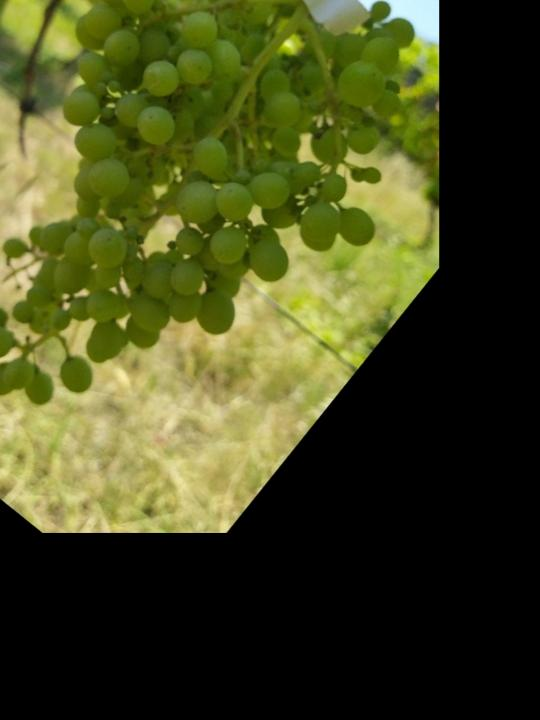grape: (0, 0, 498, 523)
